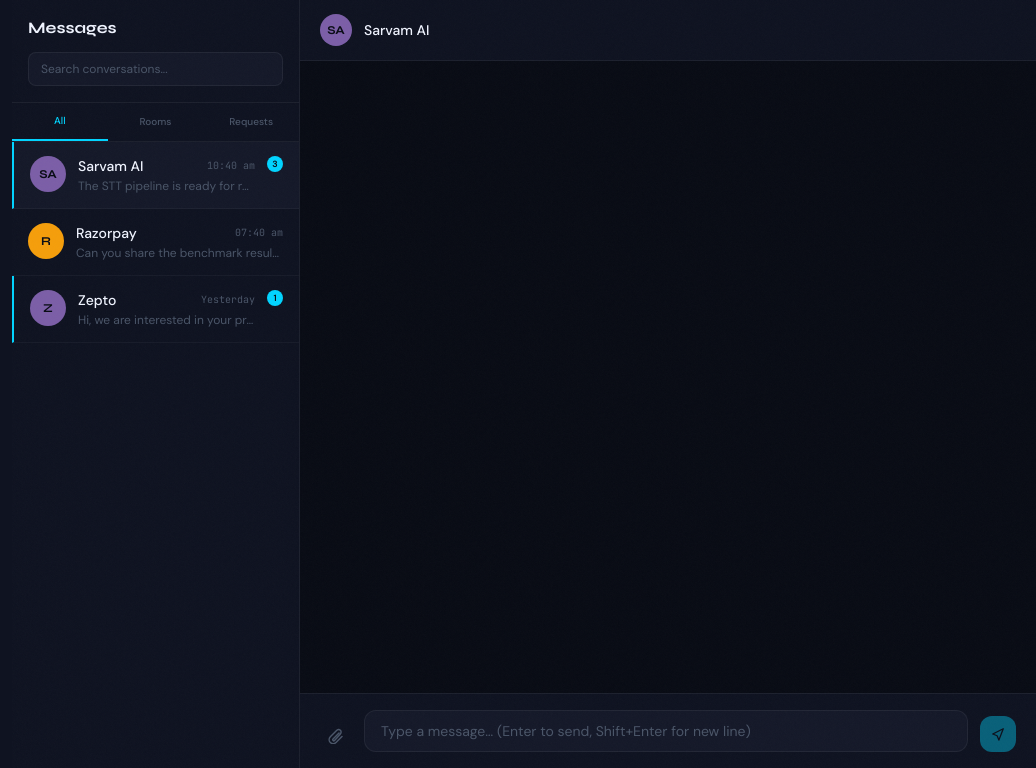
Test: Module 6: Hiring, Contracts & Messaging › Messaging › detects and warns about off-platform contact sharing
Type "Call me at 9876543210" into the text box with test id "message-input". click: (666,731)
box: [364,710,968,752]
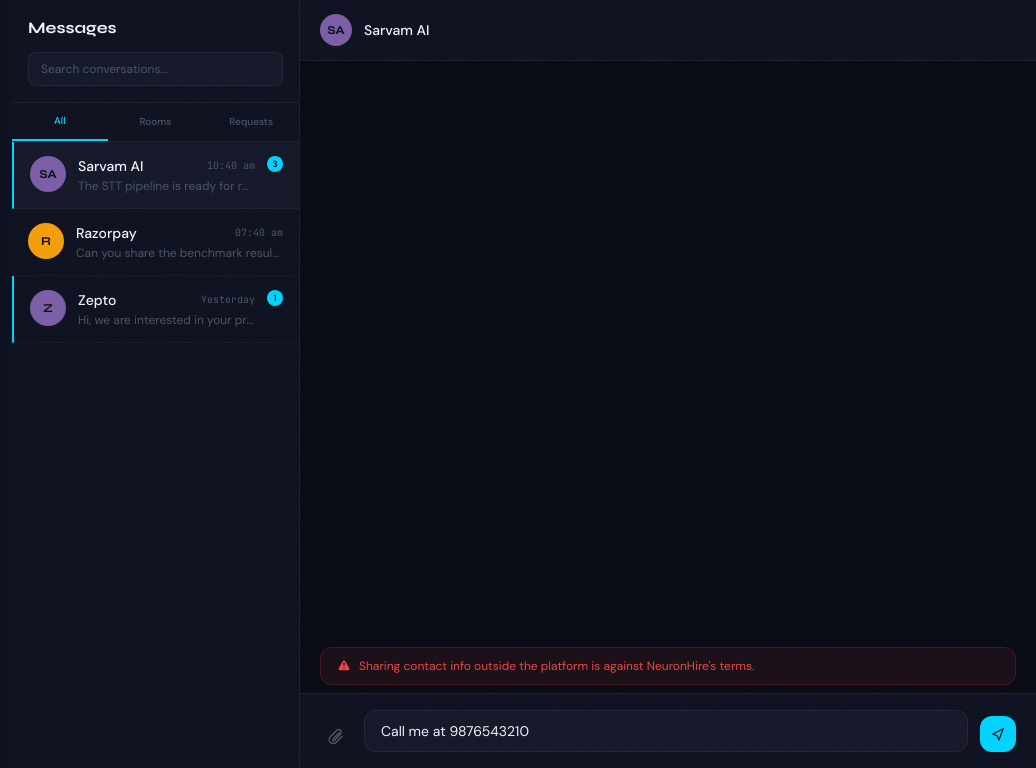
Expected: the message "Sharing contact info outside the platform is against NeuronHire's terms." is shown, [320,647,1016,685]
Expected: the message with test id "off-platform-warning" shows "against NeuronHire's terms", [359,658,754,674]
